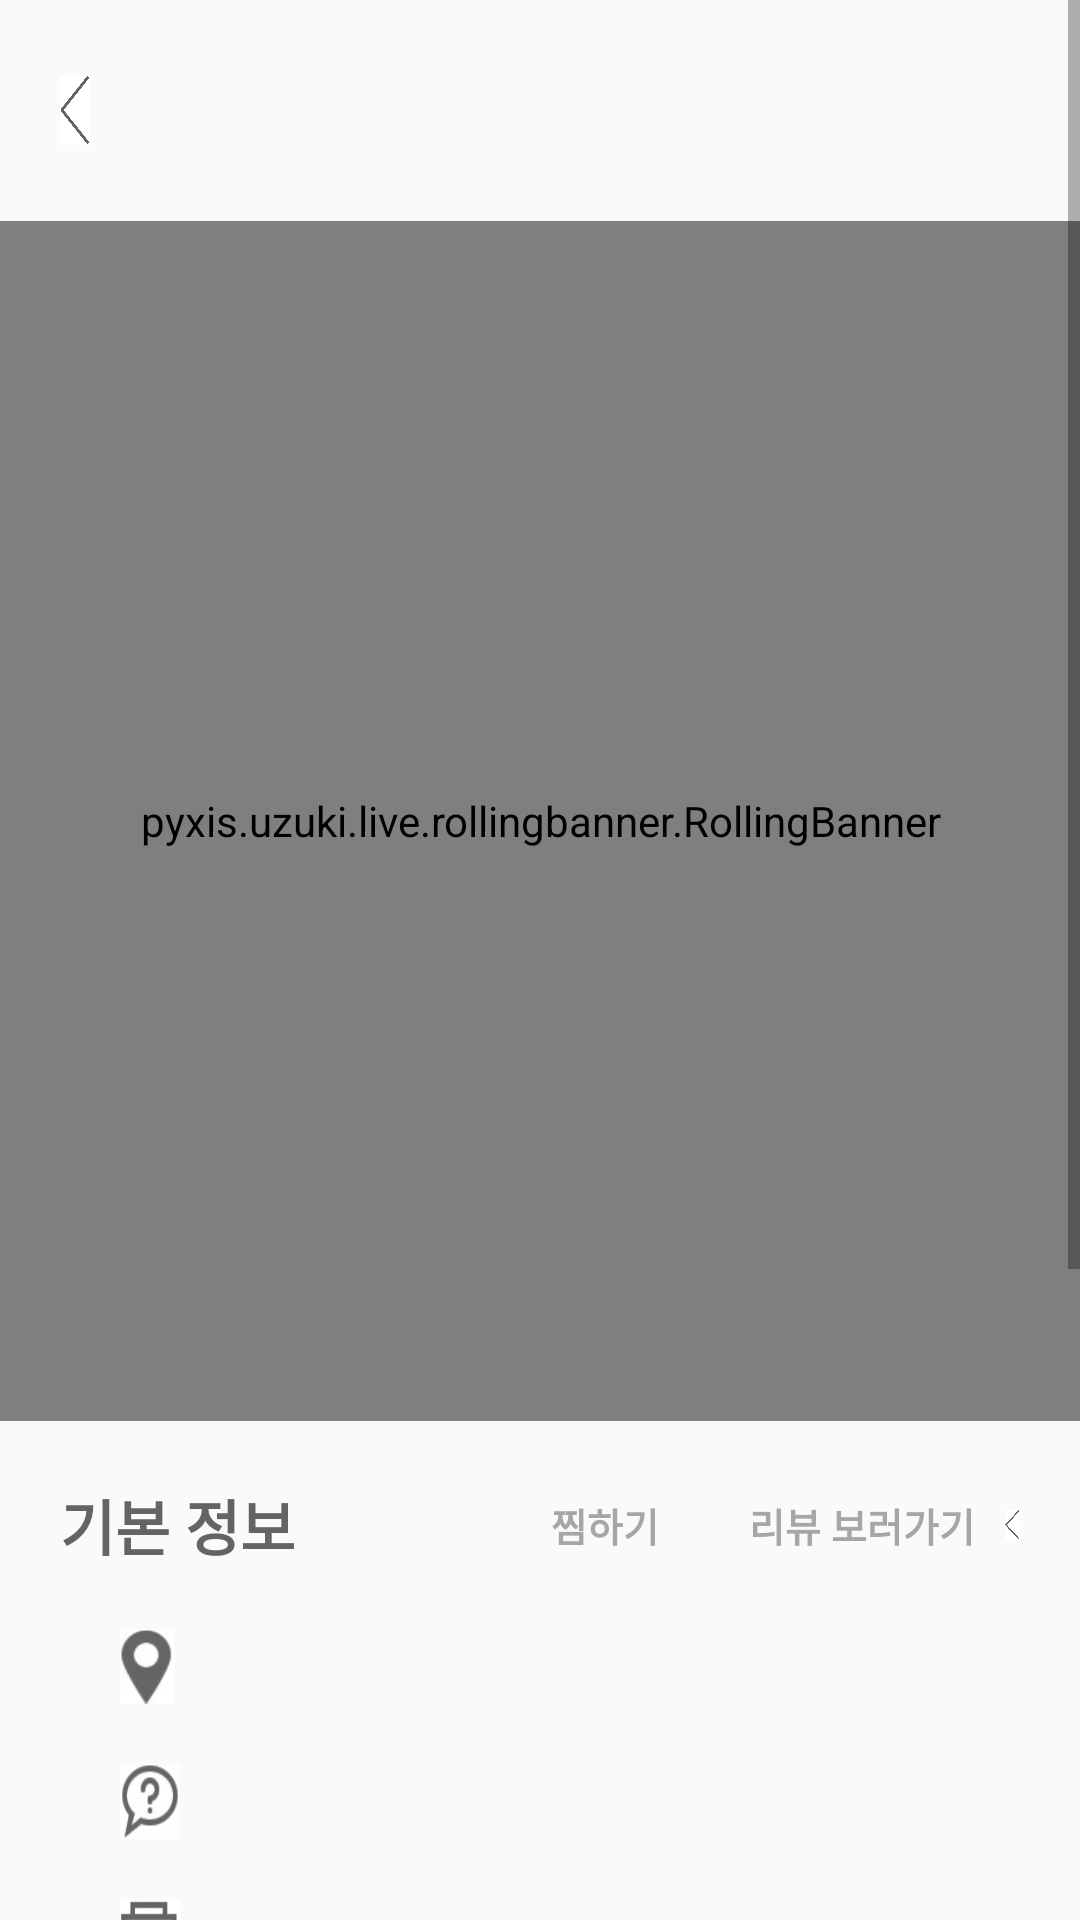

Icon bounding boxes for this 1080x1920 phone screenshot, format (x1, y1, x2, y2):
addr: (121, 1630, 171, 1704)
